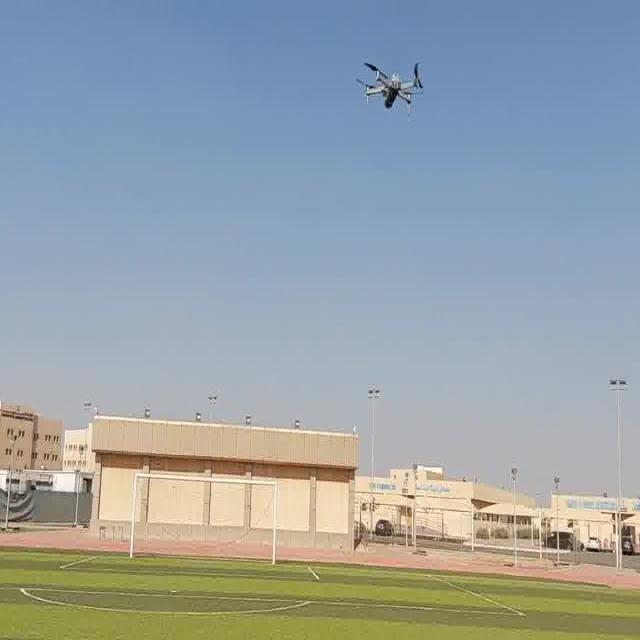drone: (352, 50, 428, 119)
